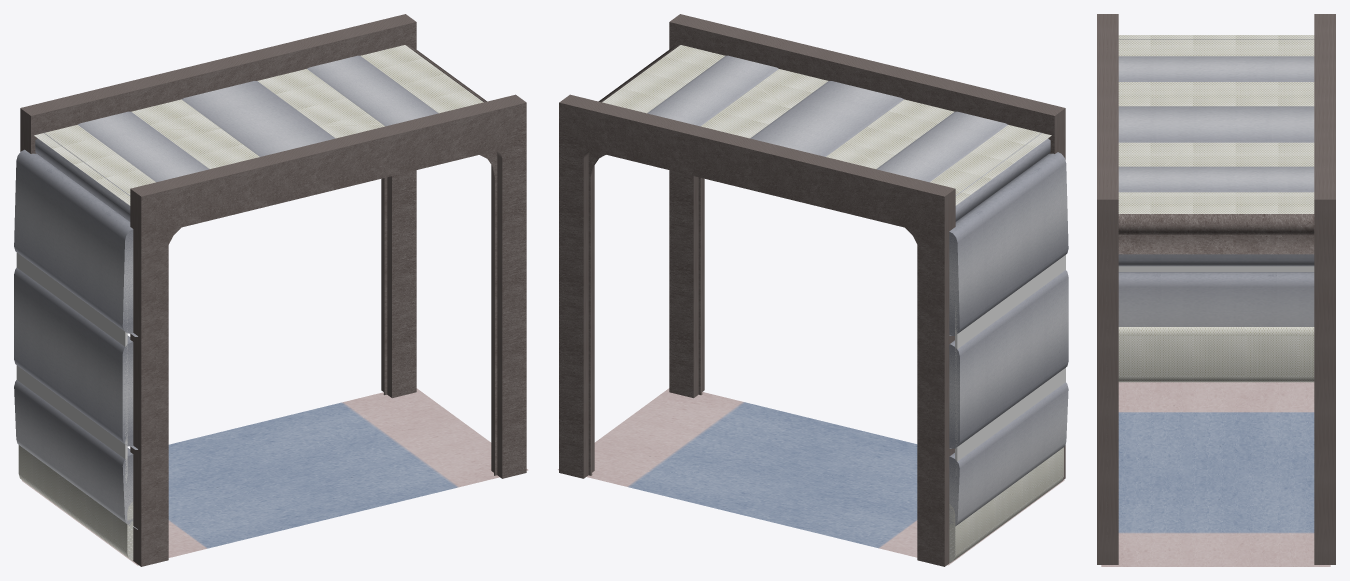
File: GalaxyCorridorDoorSegment.fbx
The picture shows the model from 3 angles, left to right: view 1: azimuth 30°, elevation 25°; view 2: azimuth 150°, elevation 25°; view 3: azimuth 270°, elevation 25°; orthographic projection.
Parts seen in each view (by area): view 1: Box194, Plane32, Box195, Plane33, ChamferBox75, ChamferBox74, ChamferBox76, ChamferBox53, ChamferBox52, ChamferBox51, ChamferBox77, ChamferBox73 (+3 smaller); view 2: Box195, Plane32, Box194, Plane33, ChamferBox75, ChamferBox74, ChamferBox76, ChamferBox53, ChamferBox52, ChamferBox51, ChamferBox77, ChamferBox73 (+3 smaller); view 3: Plane32, Plane33, Box194, Box195, ChamferBox77, ChamferBox76, Plane34, ChamferBox53, ChamferBox52, ChamferBox51, ChamferBox74, Box196 (+2 smaller).
Boxes of the visible parts, bbox=[...] form: Box194: bbox=[130, 94, 526, 566]; Plane32: bbox=[22, 388, 528, 565]; Box195: bbox=[20, 14, 416, 398]; Plane33: bbox=[34, 45, 483, 205]; ChamferBox75: bbox=[14, 149, 137, 336]; ChamferBox74: bbox=[14, 267, 137, 449]; ChamferBox76: bbox=[14, 380, 137, 529]; ChamferBox53: bbox=[182, 81, 335, 156]; ChamferBox52: bbox=[307, 55, 438, 126]; ChamferBox51: bbox=[78, 111, 209, 182]; ChamferBox77: bbox=[18, 445, 133, 560]; ChamferBox73: bbox=[16, 252, 127, 482]; Box195: bbox=[559, 94, 955, 566]; Plane32: bbox=[558, 388, 1064, 565]; Box194: bbox=[669, 14, 1065, 479]; Plane33: bbox=[602, 45, 1051, 205]; ChamferBox75: bbox=[949, 152, 1068, 335]; ChamferBox74: bbox=[949, 270, 1068, 448]; ChamferBox76: bbox=[949, 382, 1068, 528]; ChamferBox53: bbox=[750, 81, 903, 156]; ChamferBox52: bbox=[647, 55, 778, 126]; ChamferBox51: bbox=[876, 111, 1007, 182]; ChamferBox77: bbox=[949, 447, 1063, 563]; ChamferBox73: bbox=[955, 255, 1065, 481]; Plane32: bbox=[1101, 382, 1330, 566]; Plane33: bbox=[1118, 35, 1314, 213]; Box194: bbox=[1097, 14, 1118, 564]; Box195: bbox=[1314, 14, 1335, 564]; ChamferBox77: bbox=[1118, 327, 1314, 382]; ChamferBox76: bbox=[1118, 272, 1314, 326]; Plane34: bbox=[1118, 214, 1314, 254]; ChamferBox53: bbox=[1118, 106, 1314, 142]; ChamferBox52: bbox=[1118, 166, 1314, 192]; ChamferBox51: bbox=[1118, 56, 1314, 81]; ChamferBox74: bbox=[1118, 254, 1314, 266]; Box196: bbox=[1324, 14, 1326, 564].
Size of the model in its own units: 289 by 256 by 151.
